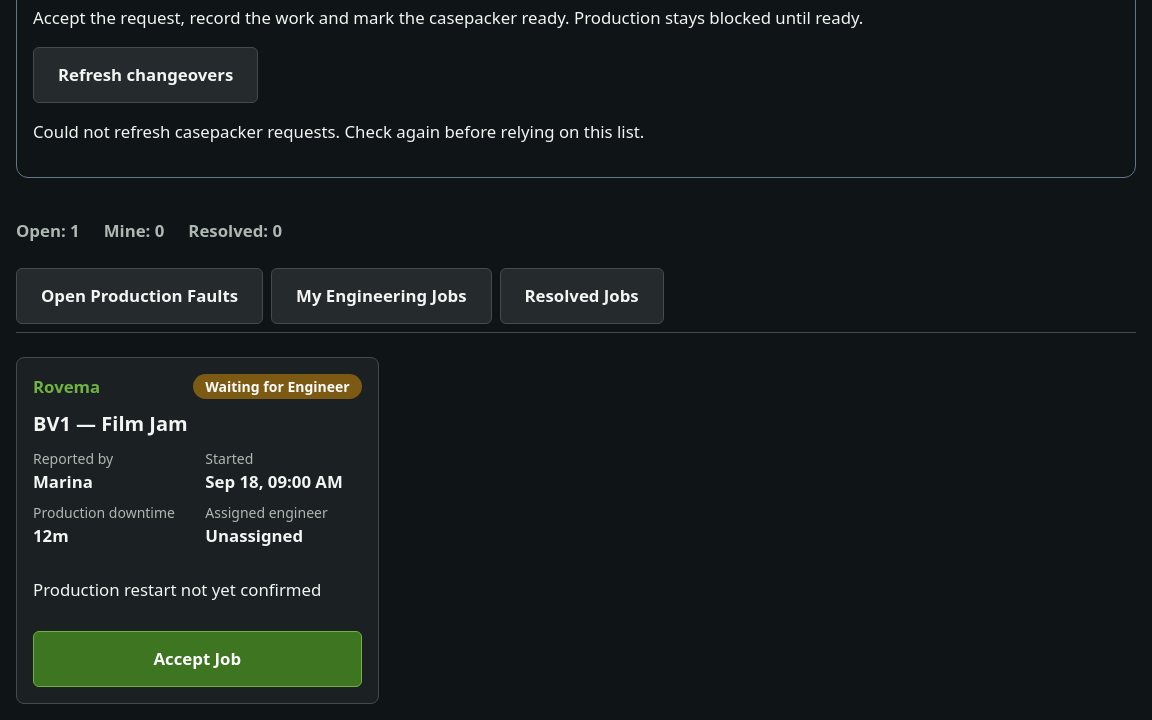
Engineering fault actions › requires confirmation before accepting a job
The width and height of the screenshot is (1152, 720).
(page scrolled)
Expected: the heading "BV1 — Film Jam" is shown, x1=33 y1=410 x2=188 y2=437
Click the button "Accept Job" at (197, 659), box x1=33 y1=631 x2=362 y2=687
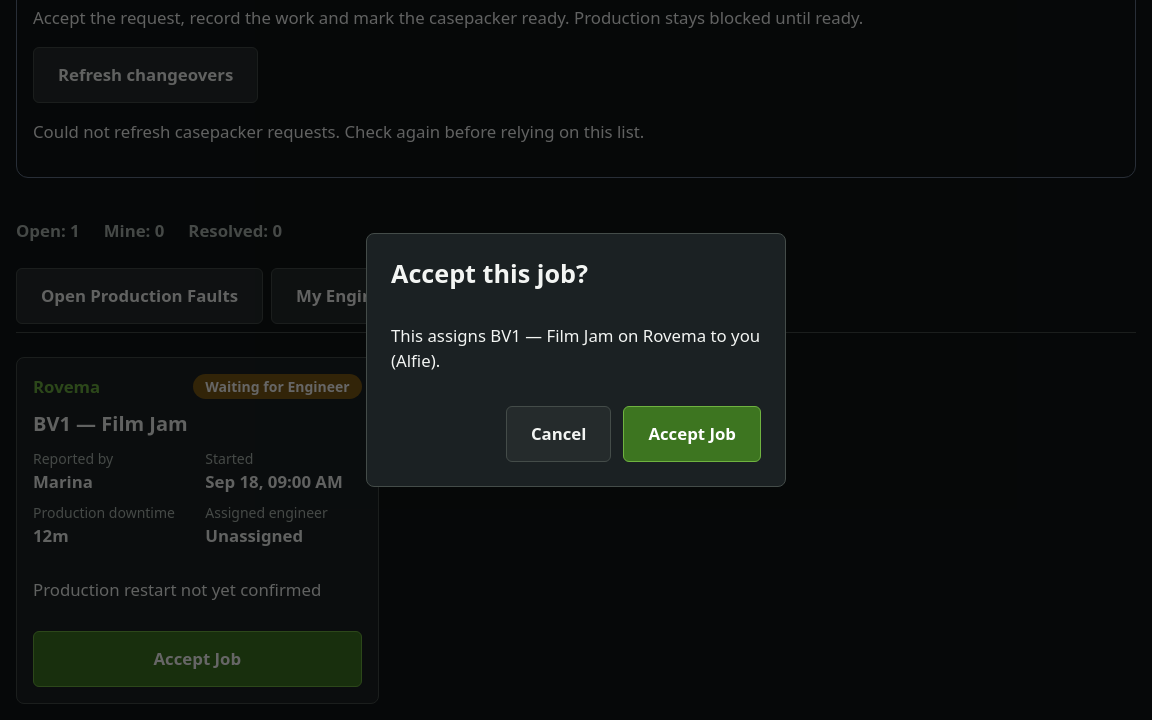
Now the dialog is shown, box x1=366 y1=233 x2=786 y2=487
